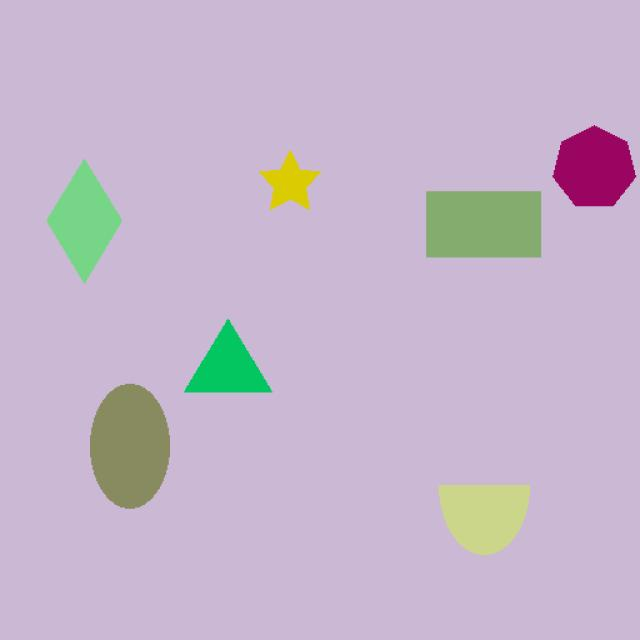Circle: (62, 372, 202, 522)
Heptagon: (523, 114, 640, 223)
Kite: (29, 142, 139, 284)
Rectangle: (404, 189, 560, 276)
Semicircle: (411, 461, 571, 570)
Star: (249, 144, 333, 228)
Triangle: (179, 302, 282, 408)
